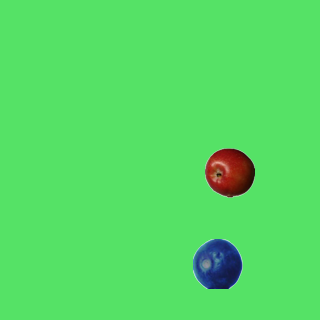Apple Braeburn: (204, 147, 254, 197)
Huckleberry: (192, 238, 242, 288)
